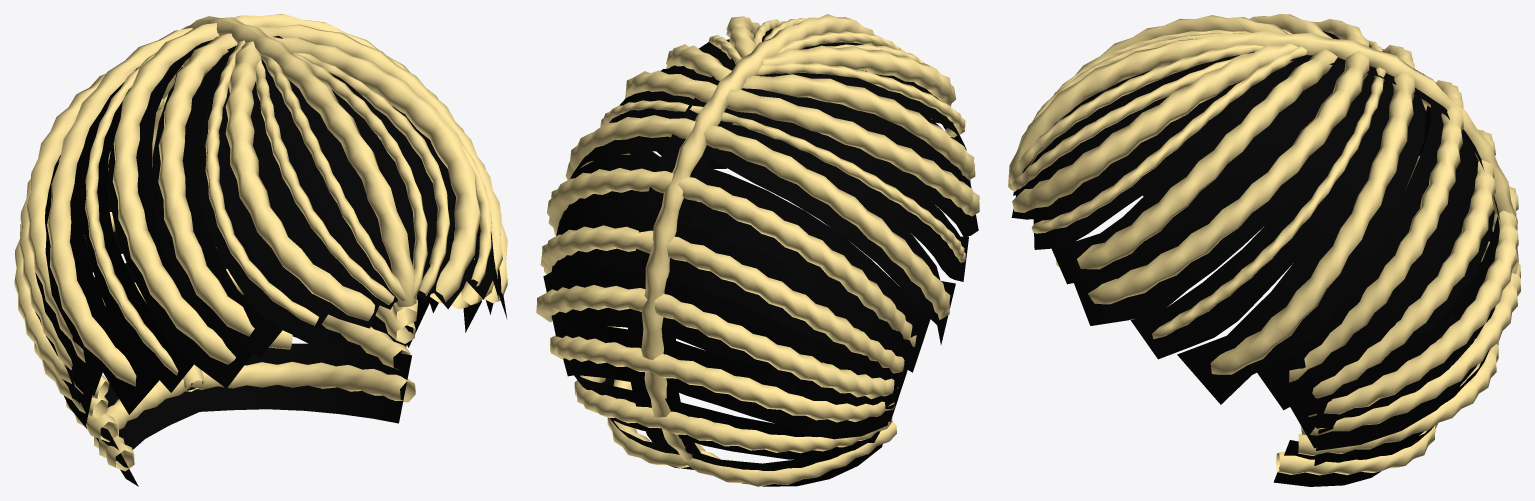
Rendered from FinalHair03_Braids_2.fbx.
3 views of the same model, side by side, from view 1: azimuth 30°, elevation 25°; view 2: azimuth 150°, elevation 25°; view 3: azimuth 270°, elevation 25° (orthographic). The views are drawn at different scales.
Visible parts, largest first — view 1: Braid; view 2: Braid; view 3: Braid.
Part boxes in pixels (x1=…): Braid: x1=14, y1=14, x2=507, y2=486; Braid: x1=536, y1=14, x2=979, y2=486; Braid: x1=1008, y1=14, x2=1520, y2=486.
Size of the model in its own units: 0.1904 by 0.1967 by 0.2251.
